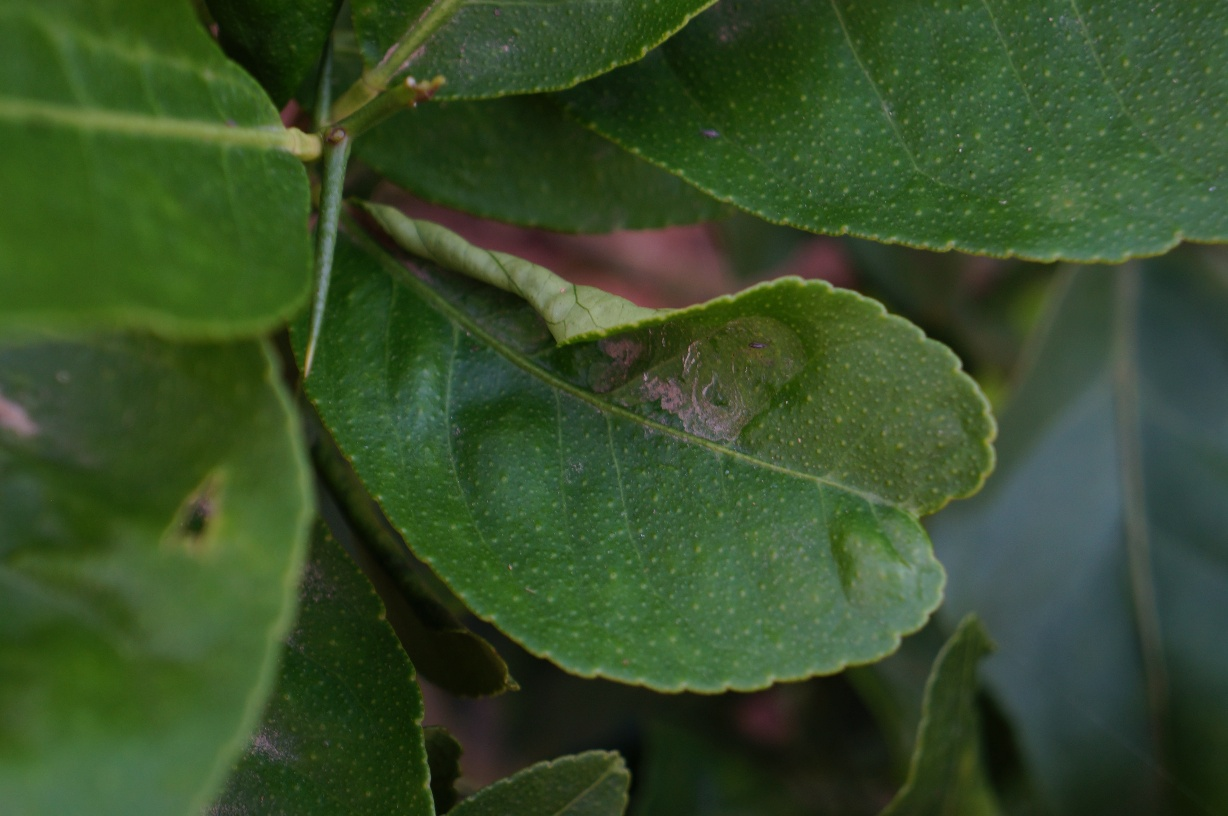damage: (558, 299, 807, 472)
